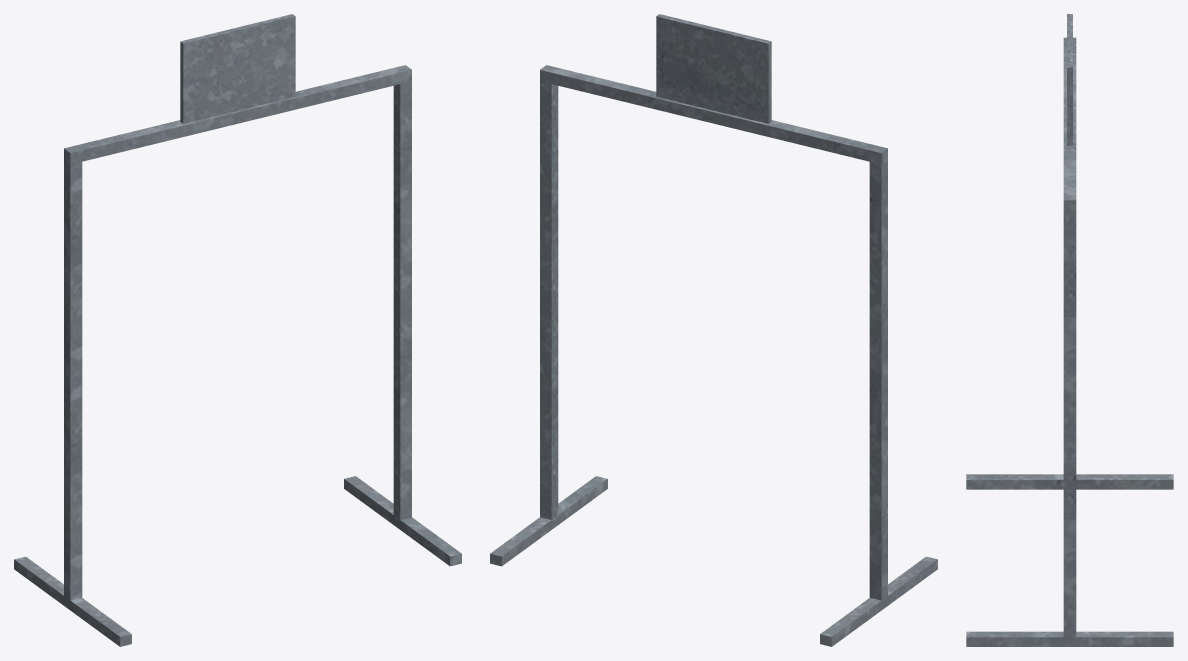
Rendered from gate1.dae.
3 renders of one model, left to right at view 1: azimuth 30°, elevation 25°; view 2: azimuth 150°, elevation 25°; view 3: azimuth 270°, elevation 25°, orthographic. The views are drawn at different scales.
Visible parts, largest first — view 1: Cube-Node; view 2: Cube-Node; view 3: Cube-Node.
Boxes of the visible parts, x1,y1,x2,y2 form: Cube-Node: [14, 14, 461, 646]; Cube-Node: [490, 14, 937, 646]; Cube-Node: [966, 14, 1173, 646].
Size of the model in its own units: 7.16 by 3.85 by 10.76.
